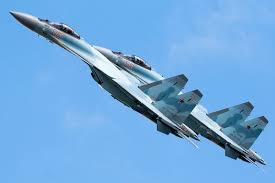fighter: (8, 9, 202, 147), (91, 42, 266, 167)
